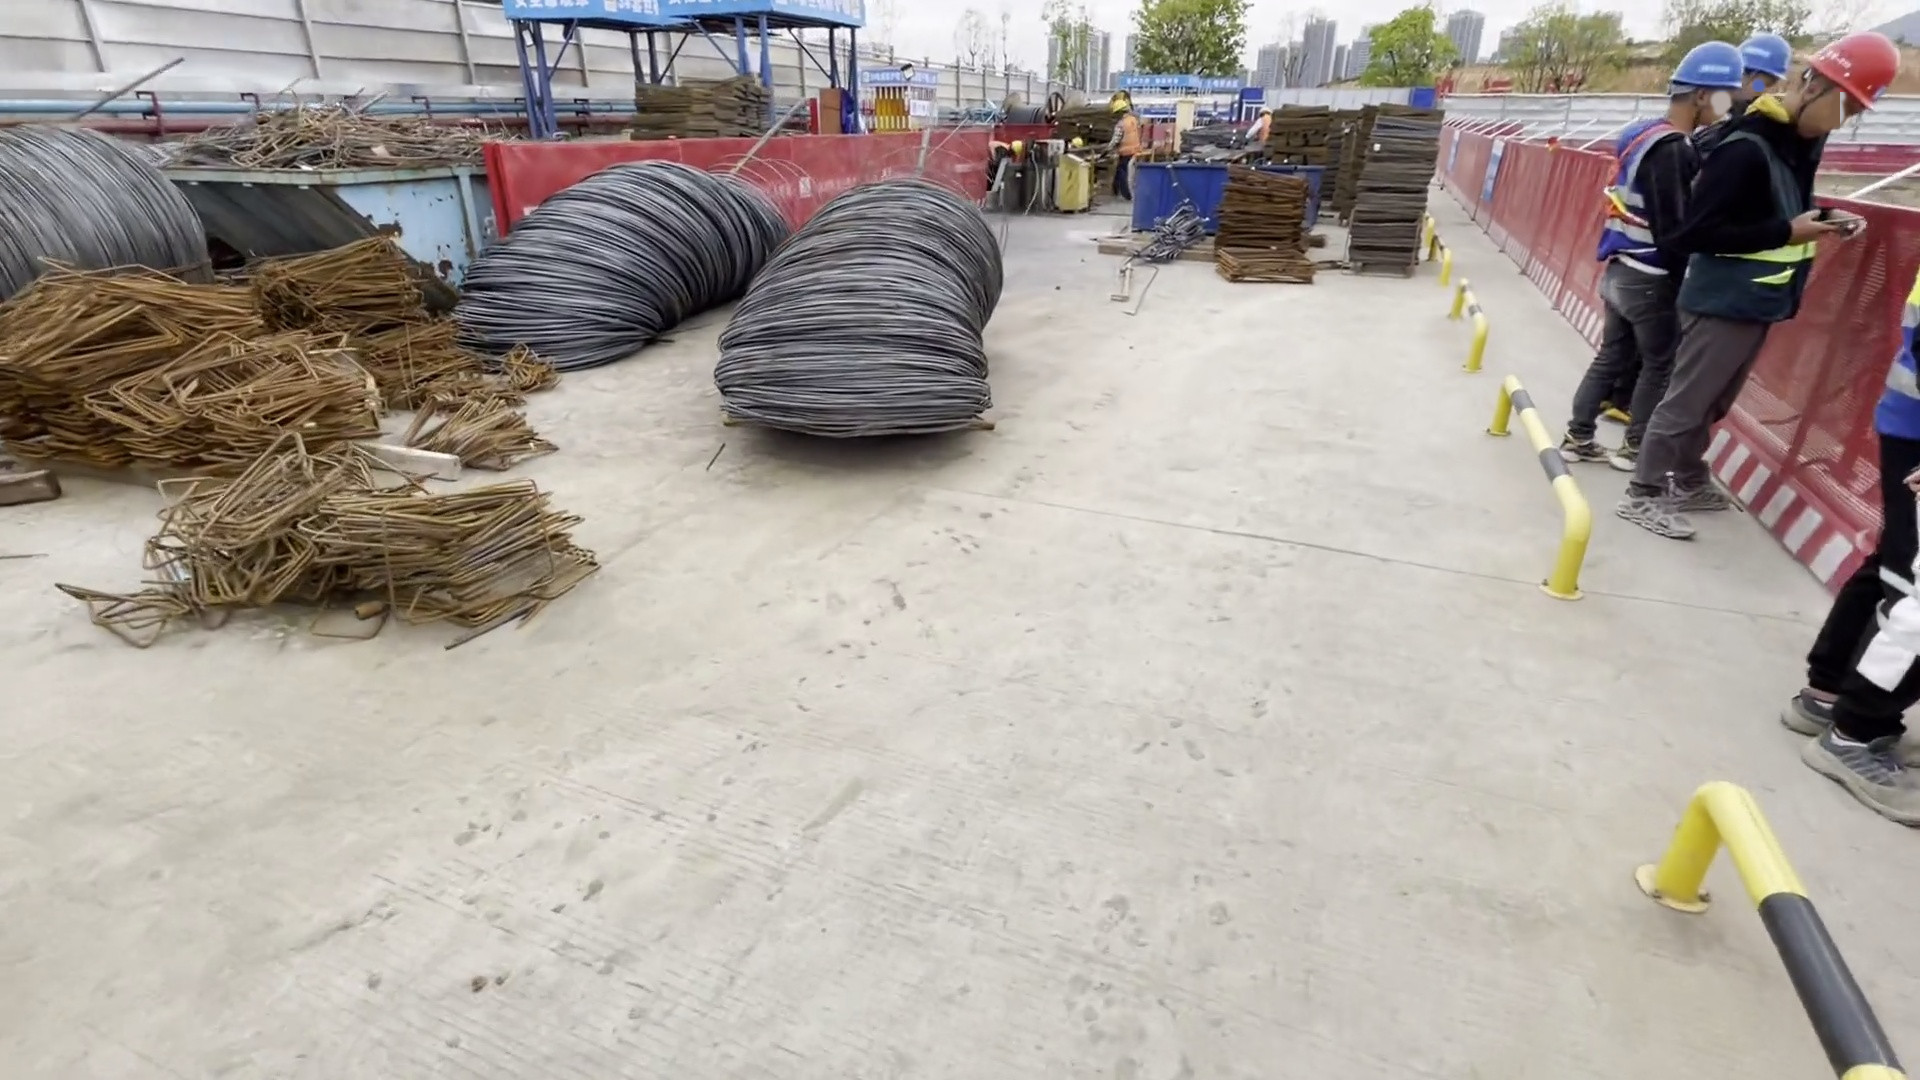fence: (495, 130, 986, 227), (1412, 117, 1603, 331)
helmet: (1808, 22, 1901, 109), (1662, 45, 1741, 93), (1734, 28, 1789, 78)
hopper: (1130, 161, 1227, 222)
person: (1634, 1, 1903, 552), (1553, 24, 1739, 476), (1106, 99, 1139, 206), (986, 136, 1019, 178), (1246, 107, 1272, 155)
vest: (1597, 131, 1657, 268)
